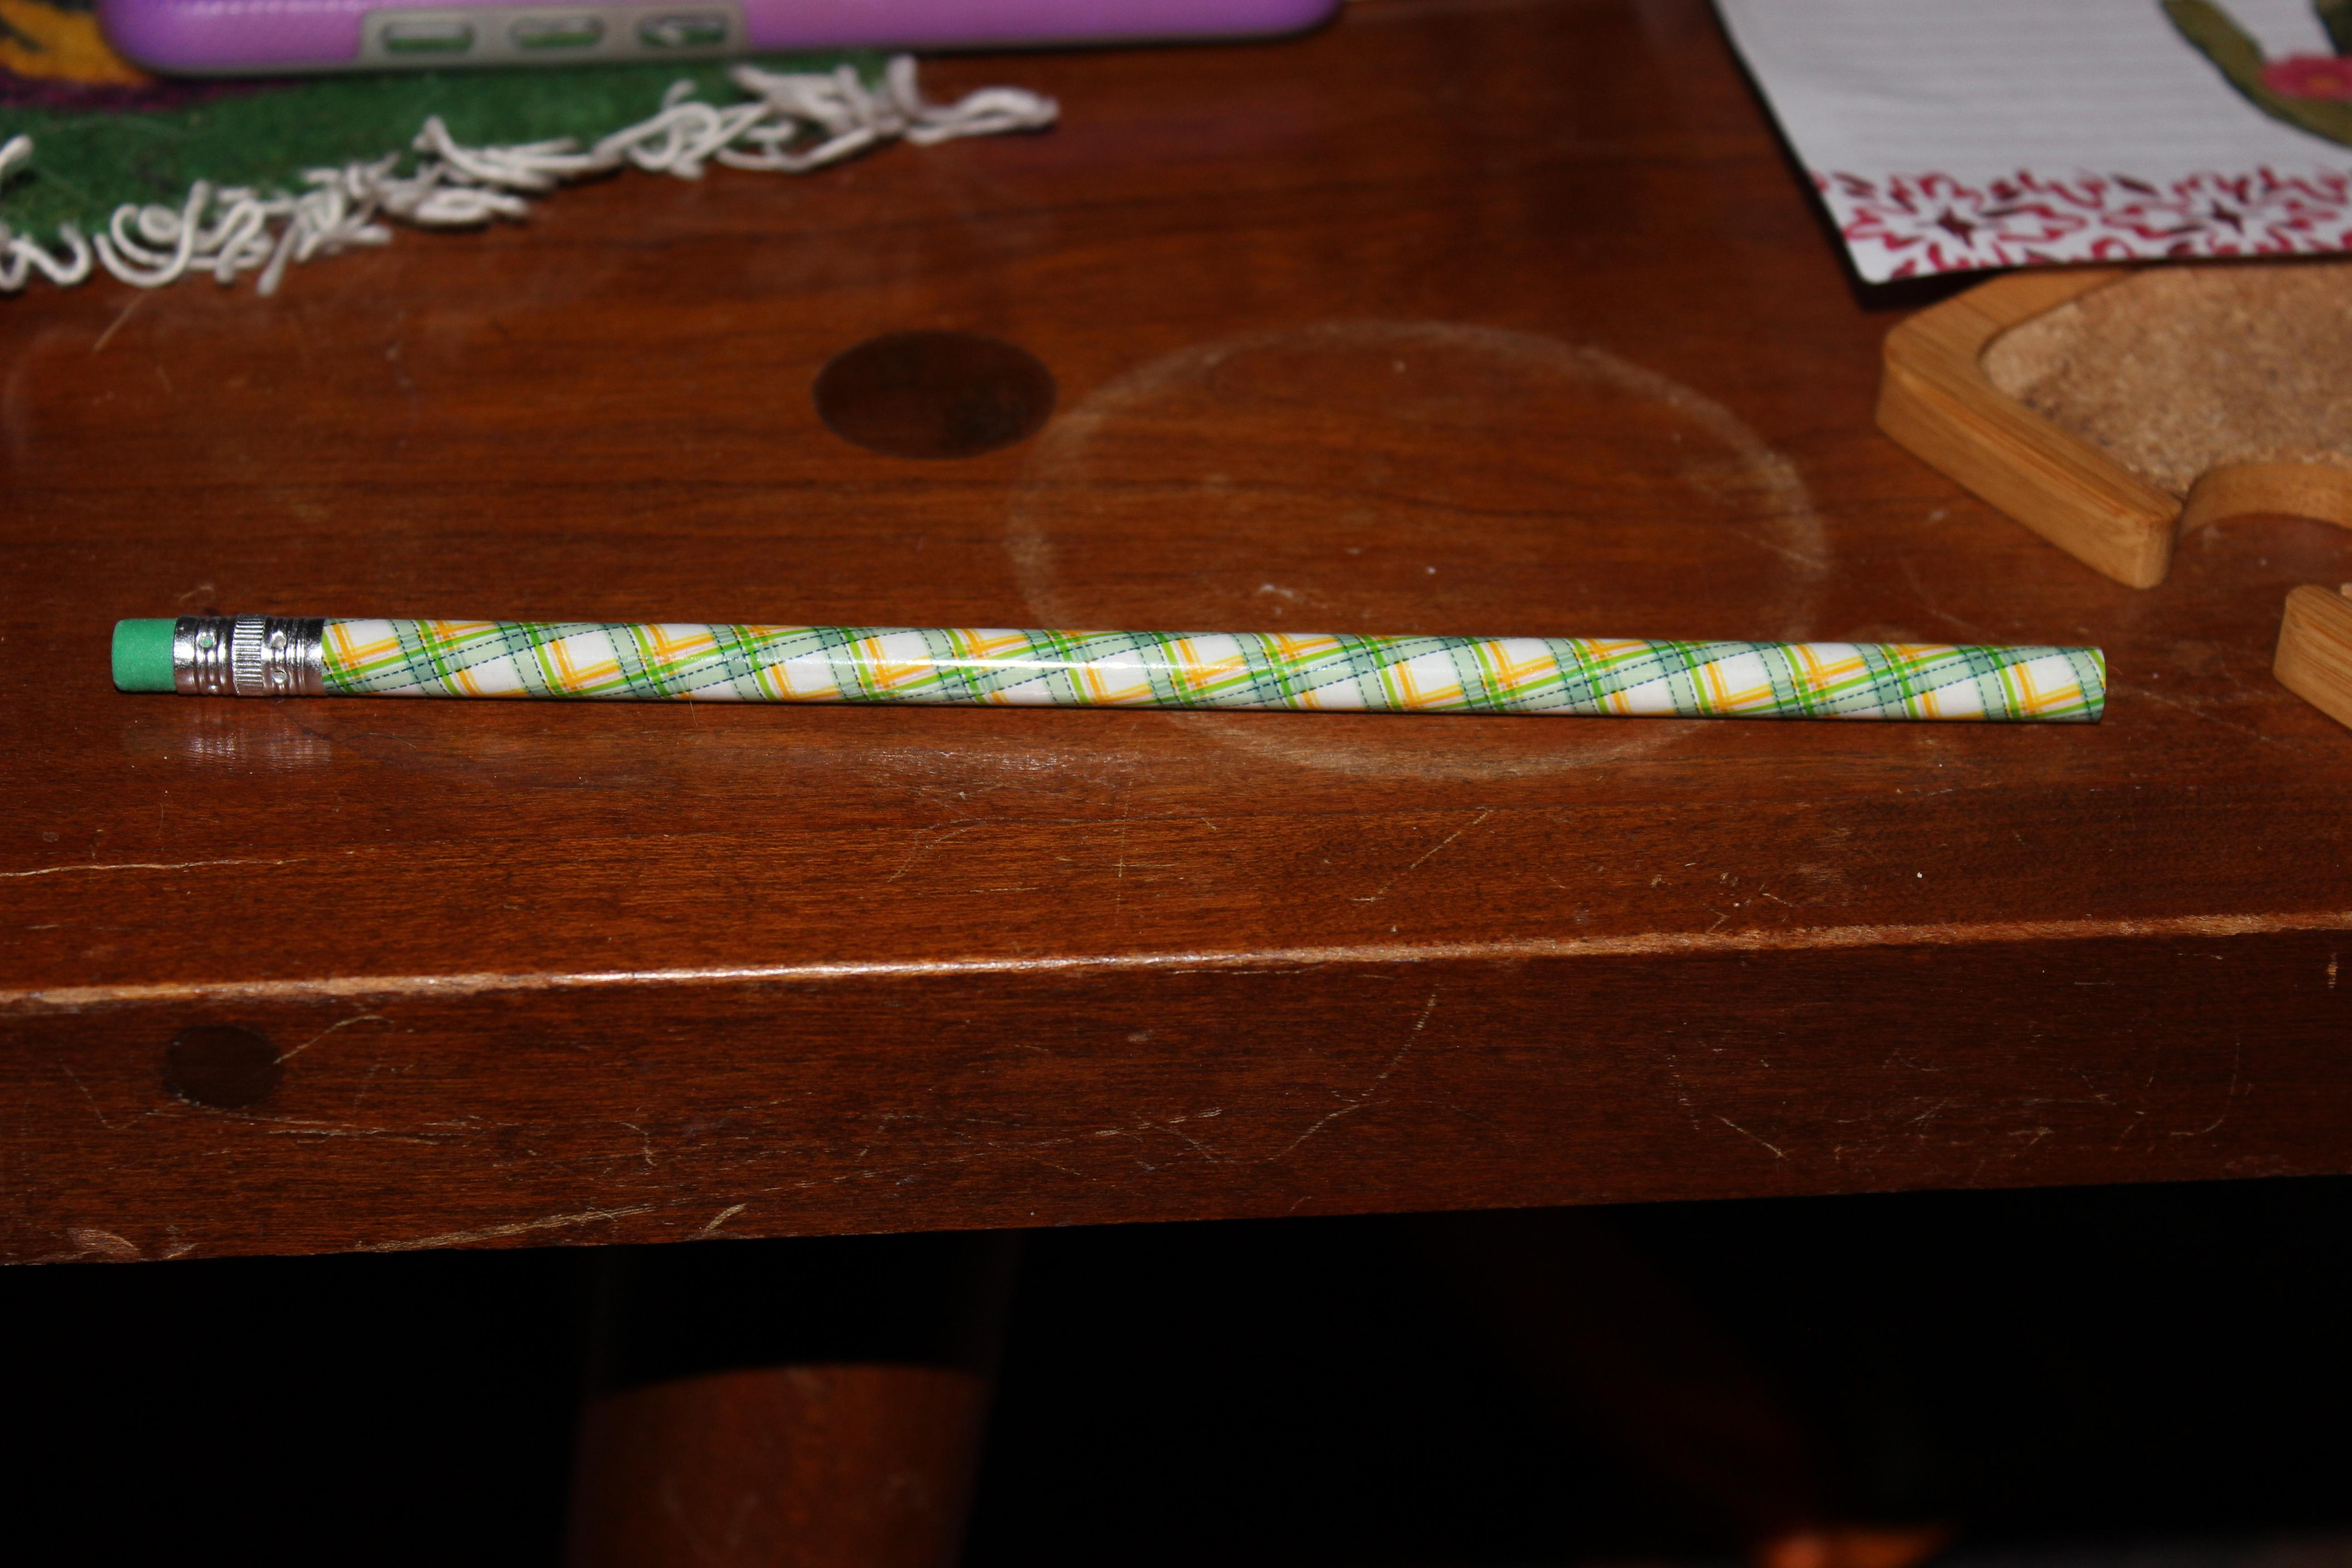plaidPencil: (86, 574, 2140, 770)
